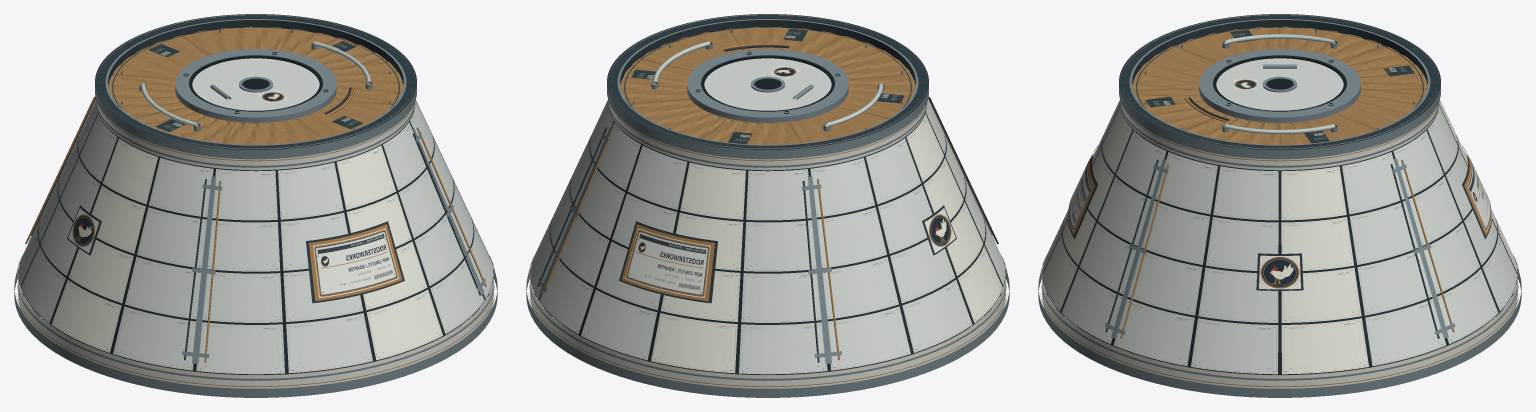
Rendered from RW_ADP_250_375.obj.
3 views of the same model, side by side, from view 1: azimuth 30°, elevation 25°; view 2: azimuth 150°, elevation 25°; view 3: azimuth 270°, elevation 25° (orthographic).
Parts seen in each view (by area): view 1: cladding, cladding_white, steel, graphite, hubblanket, white, ceramic, adplabel, bronze, black, crest, detail (+1 smaller); view 2: cladding, steel, graphite, cladding_white, hubblanket, white, ceramic, adplabel, bronze, black, crest, detail (+1 smaller); view 3: cladding, cladding_white, steel, graphite, hubblanket, white, ceramic, bronze, crest, adplabel, black, rail (+1 smaller).
Part boxes in pixels (<box>): cladding: <box>18,100,493,374</box>; cladding_white: <box>51,138,442,360</box>; steel: <box>14,15,497,397</box>; graphite: <box>18,14,493,374</box>; hubblanket: <box>50,26,459,375</box>; white: <box>18,14,493,388</box>; ceramic: <box>192,58,319,110</box>; adplabel: <box>313,228,398,298</box>; bronze: <box>15,77,496,386</box>; black: <box>189,55,322,111</box>; crest: <box>68,90,288,252</box>; detail: <box>148,41,363,132</box>; cladding: <box>530,100,1005,374</box>; steel: <box>526,15,1009,397</box>; graphite: <box>530,14,1005,374</box>; cladding_white: <box>534,100,1002,373</box>; hubblanket: <box>564,26,968,375</box>; white: <box>530,14,1005,388</box>; ceramic: <box>704,58,831,110</box>; adplabel: <box>625,228,710,298</box>; bronze: <box>527,43,1008,386</box>; black: <box>701,55,834,111</box>; crest: <box>769,65,955,252</box>; detail: <box>630,28,904,144</box>; cladding: <box>1042,100,1517,374</box>; cladding_white: <box>1042,100,1517,374</box>; steel: <box>1038,15,1521,397</box>; graphite: <box>1042,14,1517,374</box>; hubblanket: <box>1076,26,1483,375</box>; white: <box>1042,14,1517,388</box>; ceramic: <box>1216,58,1343,110</box>; bronze: <box>1039,77,1520,386</box>; crest: <box>1234,79,1300,289</box>; adplabel: <box>1068,155,1491,231</box>; black: <box>1213,55,1346,111</box>; rail: <box>1224,34,1335,134</box>.
Bounding box in the file's own units: 3.67 × 1.8 × 3.67.
Materials: 13 (13 with a texture image).
